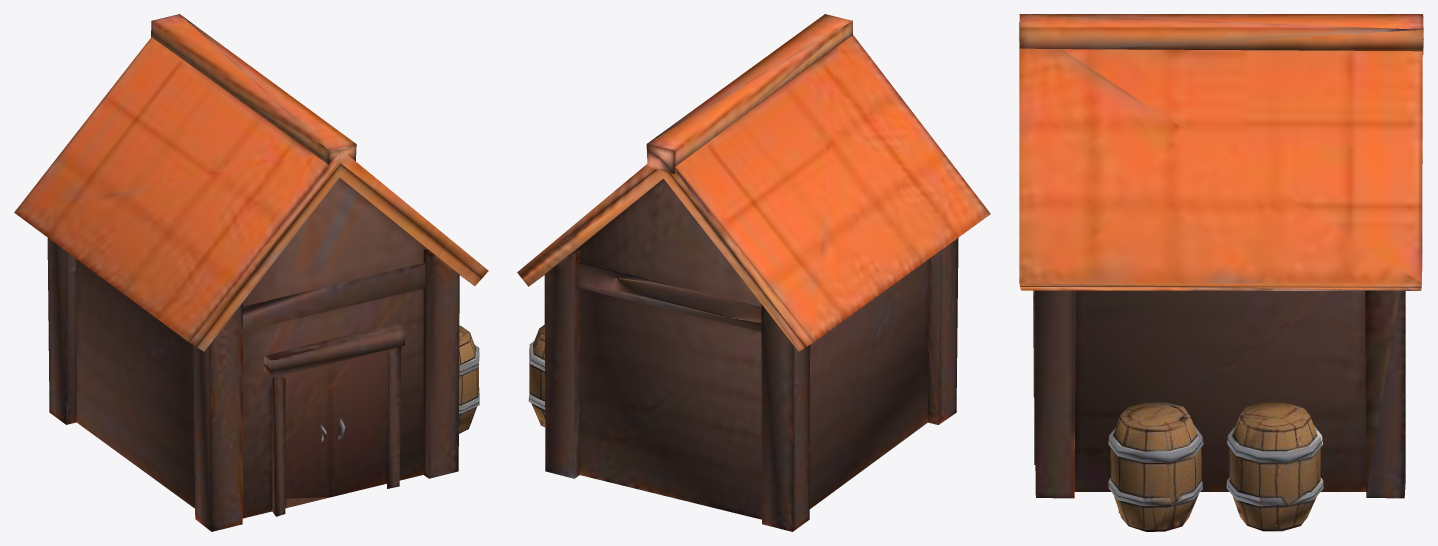
3 views of the same model, side by side, from view 1: azimuth 30°, elevation 25°; view 2: azimuth 150°, elevation 25°; view 3: azimuth 270°, elevation 25° (orthographic). The views are drawn at different scales.
Parts seen in each view (by area): view 1: supply; view 2: supply; view 3: supply.
Part boxes in pixels (left/top/right/bottom): supply: left=14, top=14, right=488, bottom=531; supply: left=517, top=14, right=990, bottom=531; supply: left=1019, top=14, right=1423, bottom=531.
Size of the model in its own units: 0.9 by 0.9 by 0.8089.
Materials: 1 (1 with a texture image).
